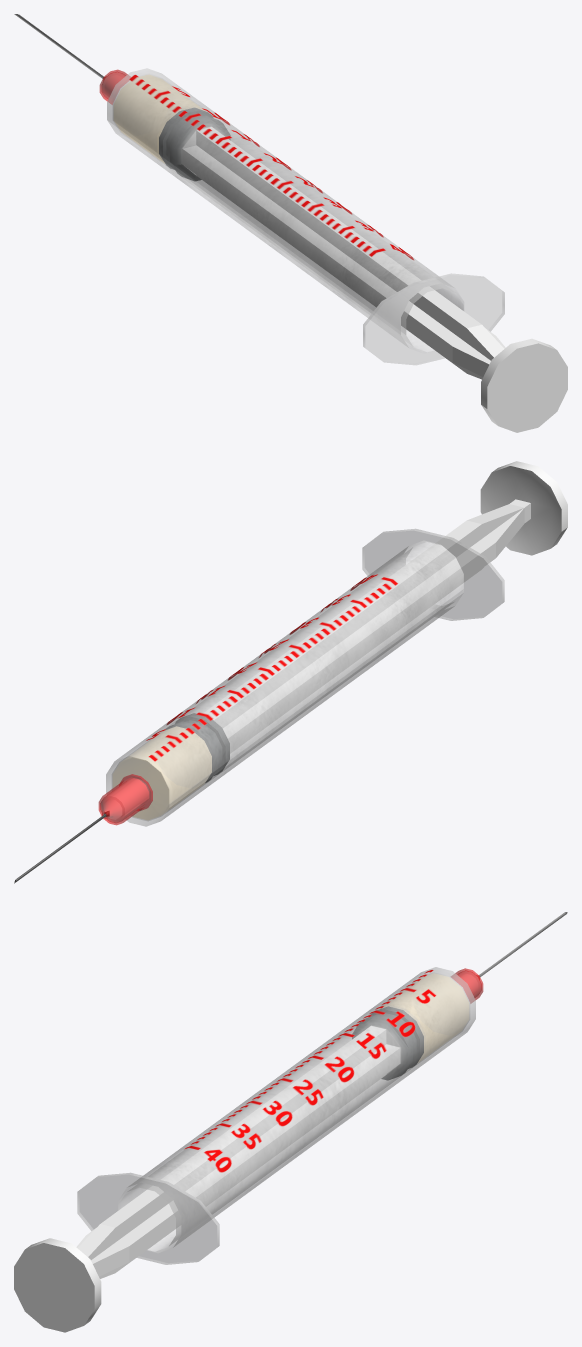
File: injection.glb
The picture shows the model from 3 angles, top to bottom: view 1: azimuth 30°, elevation 25°; view 2: azimuth 150°, elevation 25°; view 3: azimuth 330°, elevation 25°; orthographic projection.
Visible parts, largest first — view 1: Object_0.001; view 2: Object_0.001; view 3: Object_0.001.
Part boxes in pixels (box(x1,y1,x2,y2)): Object_0.001: box(14, 14, 567, 432); Object_0.001: box(14, 461, 567, 883); Object_0.001: box(14, 912, 567, 1332).
Size of the model in its own units: 0.0114 by 0.0066 by 0.0728.
Materials: 1 (1 with a texture image).
